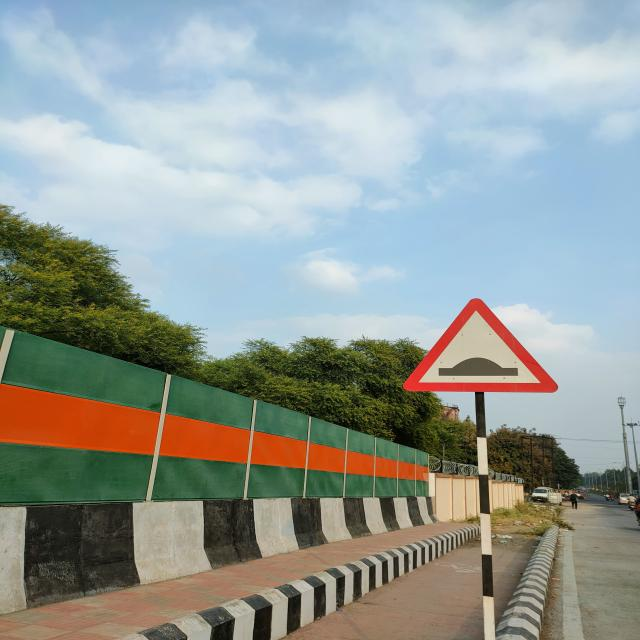horn_prohibited: (402, 297, 559, 394)
